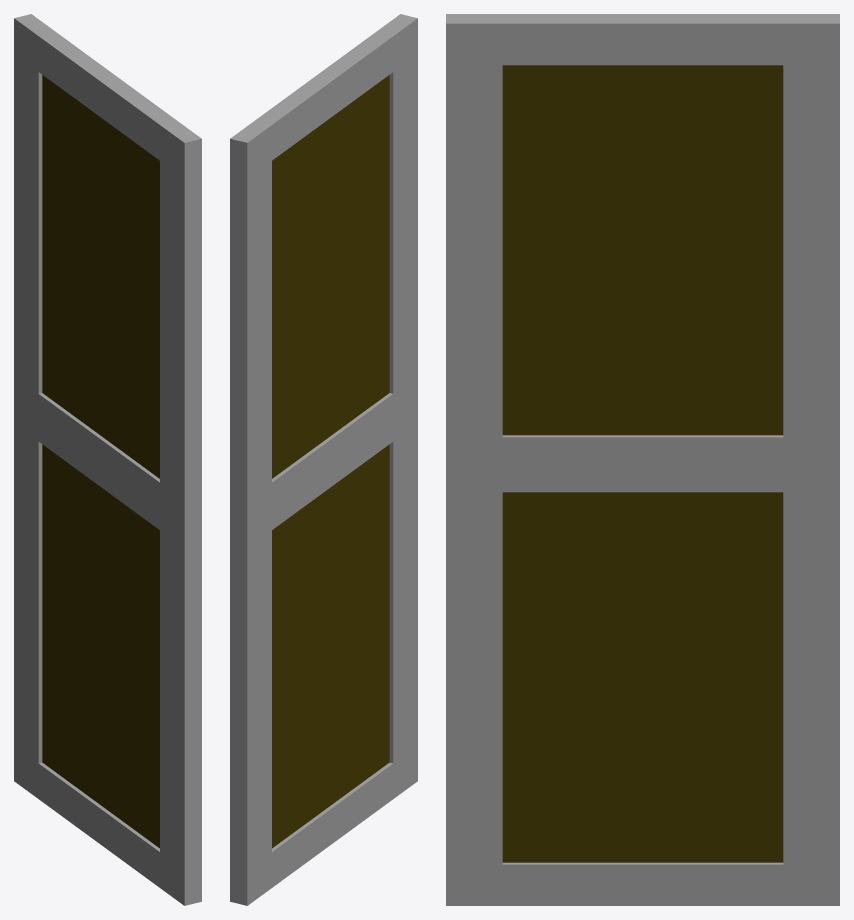
File: windowed_door_s.fbx
3 views of the same model, side by side, from view 1: azimuth 30°, elevation 25°; view 2: azimuth 150°, elevation 25°; view 3: azimuth 270°, elevation 25° (orthographic). The views are drawn at different scales.
Visible parts, largest first — view 1: windowed_door_s; view 2: windowed_door_s; view 3: windowed_door_s.
Part boxes in pixels (x1,y1,x2,y2): windowed_door_s: [14, 14, 201, 905]; windowed_door_s: [230, 14, 417, 905]; windowed_door_s: [446, 14, 839, 905].
Size of the model in its own units: 5 by 210 by 85.
